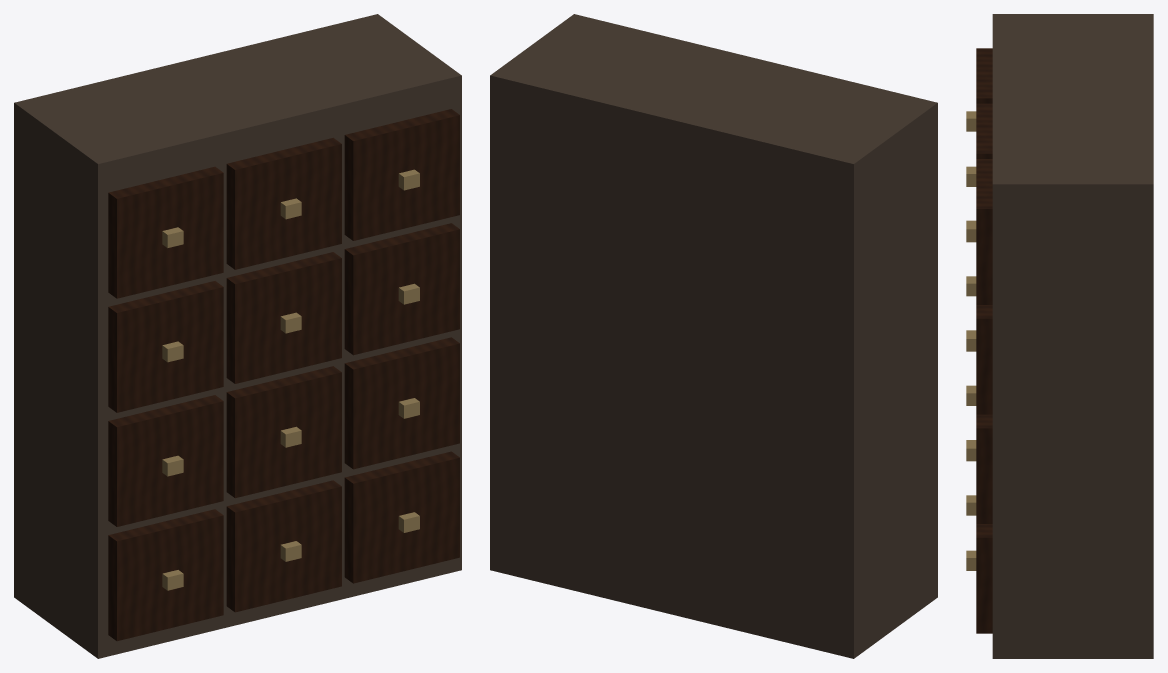
File: module_medicine_drawers.glb
3 renders of one model, left to right at view 1: azimuth 30°, elevation 25°; view 2: azimuth 150°, elevation 25°; view 3: azimuth 270°, elevation 25°, orthographic. The views are drawn at different scales.
Parts seen in each view (by area): view 1: cabinet, drawer.005, drawer.001, drawer.002, drawer.003, drawer, drawer.004, drawer.007, drawer.006, drawer.010, drawer.008, drawer.009 (+1 smaller); view 2: cabinet; view 3: cabinet, drawer.011, drawer.008, drawer.009, drawer.010, drawer.003, drawer.007.
Part boxes in pixels (bbox=[...]): cabinet: bbox=[14, 14, 461, 658]; drawer.005: bbox=[226, 366, 341, 498]; drawer.001: bbox=[108, 395, 223, 526]; drawer.002: bbox=[108, 281, 223, 412]; drawer.003: bbox=[108, 166, 223, 298]; drawer: bbox=[108, 509, 223, 641]; drawer.004: bbox=[226, 480, 341, 612]; drawer.007: bbox=[226, 137, 341, 269]; drawer.006: bbox=[226, 252, 341, 383]; drawer.010: bbox=[344, 223, 459, 355]; drawer.008: bbox=[344, 451, 459, 583]; drawer.009: bbox=[344, 337, 459, 469]; cabinet: bbox=[490, 14, 937, 658]; cabinet: bbox=[992, 14, 1153, 658]; drawer.011: bbox=[976, 159, 992, 304]; drawer.008: bbox=[976, 524, 992, 633]; drawer.009: bbox=[976, 414, 992, 523]; drawer.010: bbox=[976, 305, 992, 414]; drawer.003: bbox=[976, 48, 992, 103]; drawer.007: bbox=[976, 103, 992, 158].
Size of the model in its own units: 0.8 by 1.04 by 0.3725.
Materials: 3 (1 with a texture image).
